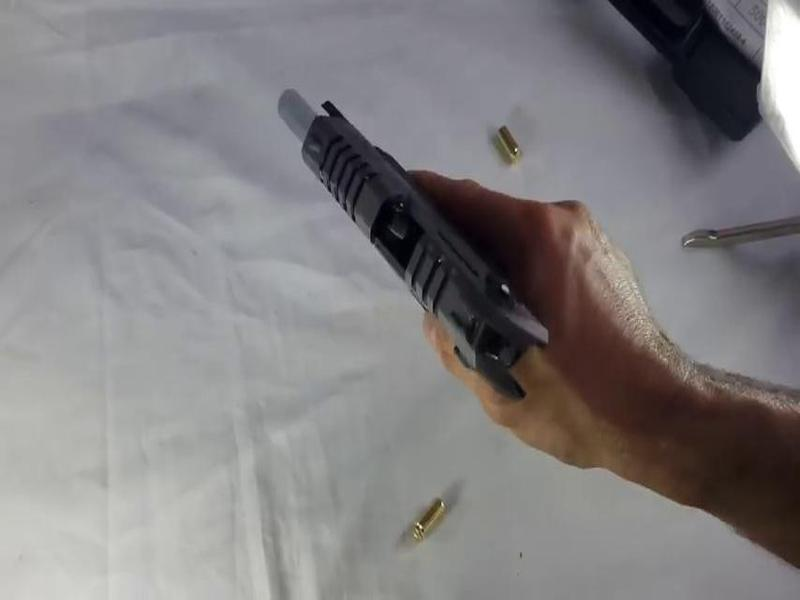Pistola: (238, 73, 598, 420)
